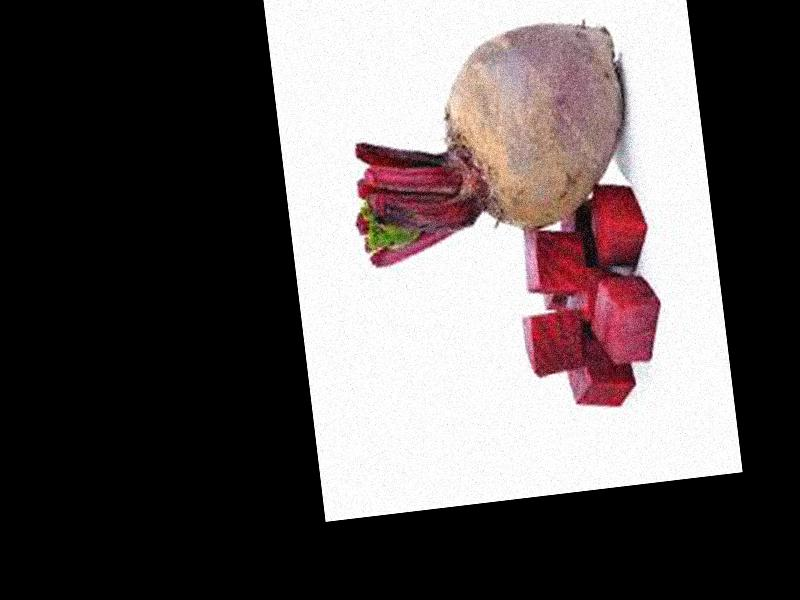Beet: (337, 16, 640, 268)
